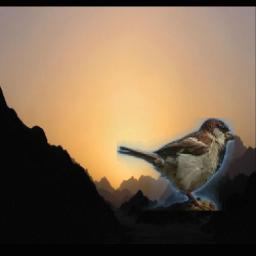Sparrow: (118, 118, 236, 211)
